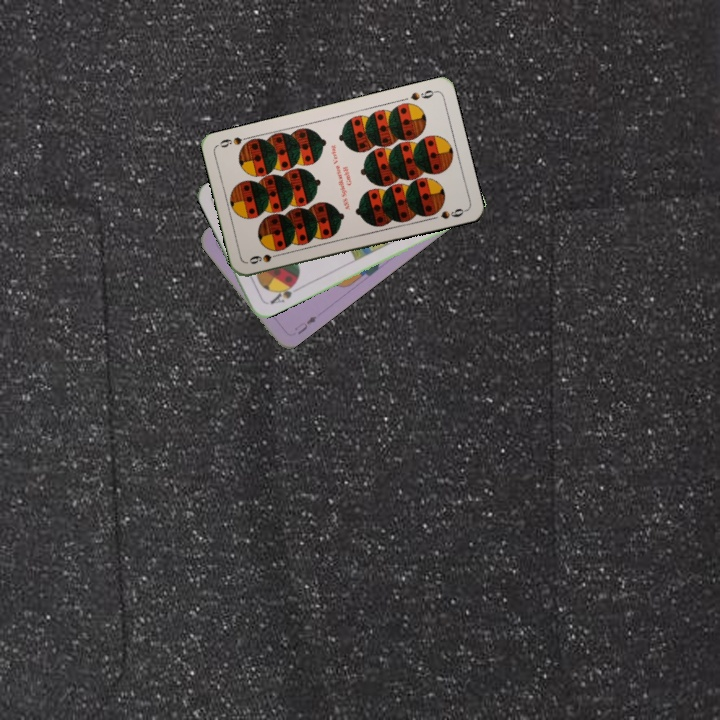EU: (290, 312, 319, 337)
S9: (245, 249, 285, 267), (407, 86, 439, 103)
SA: (266, 279, 301, 307)
